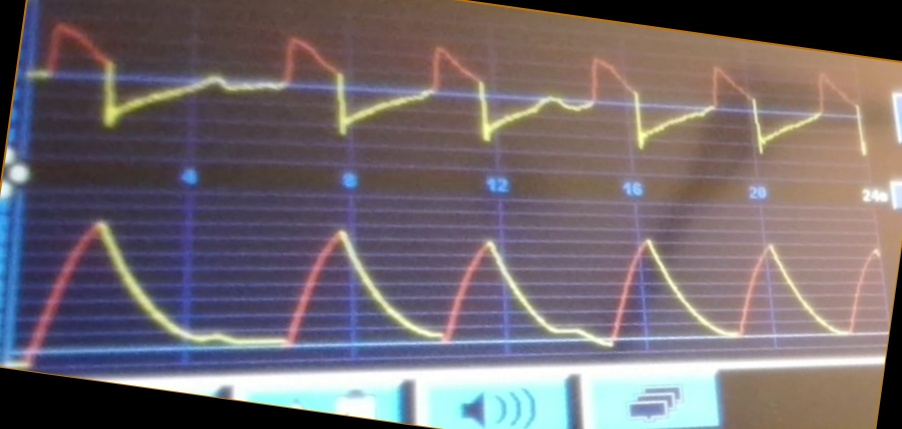Ineffective_effort Flow: (35, 22, 864, 159)
Ineffective_effort Volume: (22, 217, 880, 350)
